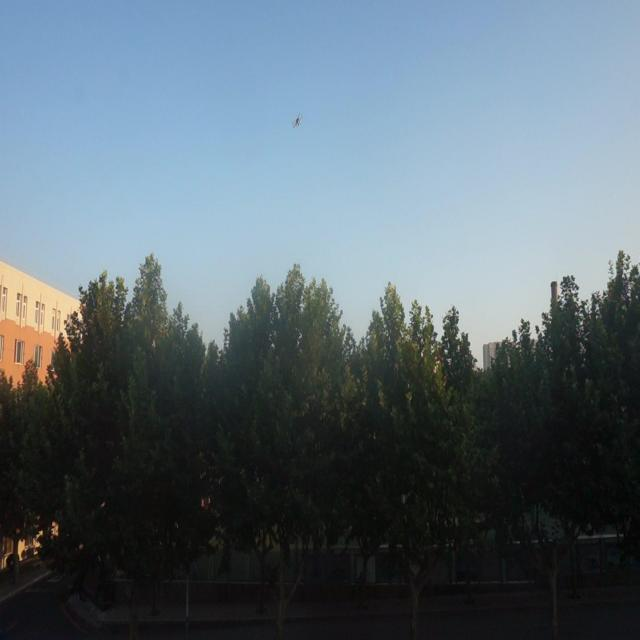UAV: (291, 112, 303, 130)
